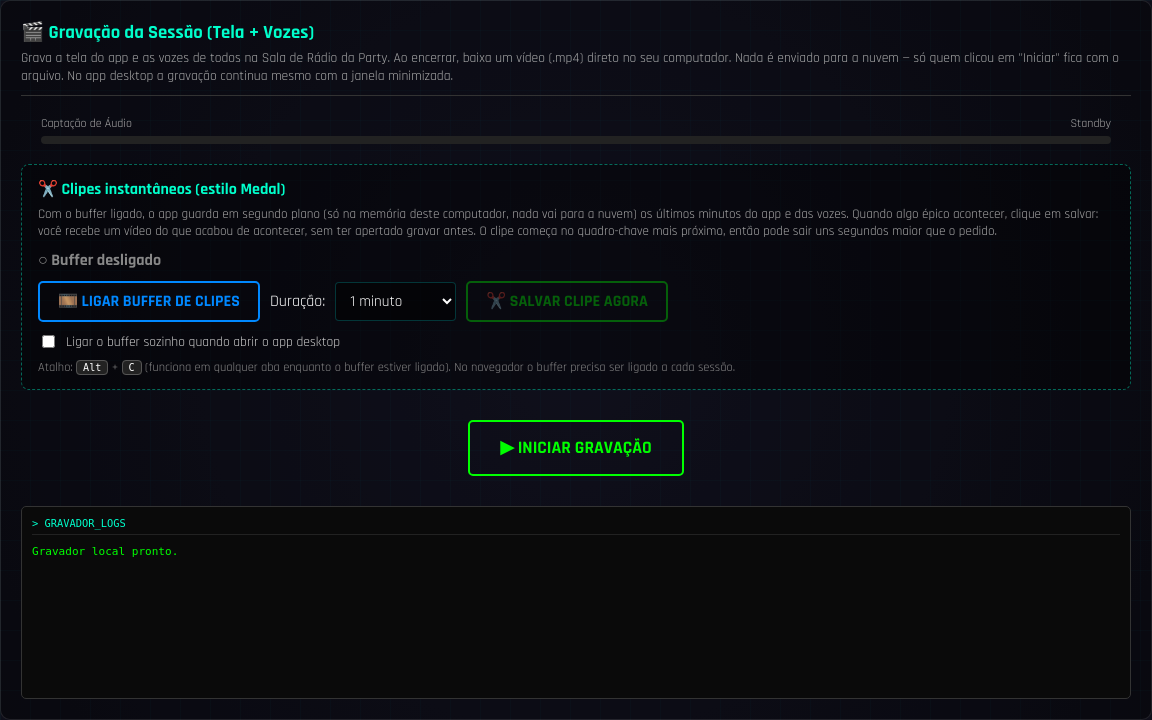
Test: GravadorPanel: modo clipe › SALVAR CLIPE AGORA fica desabilitado ate ligar
Expected: the button "✂️ SALVAR CLIPE AGORA" is disabled, x1=466 y1=281 x2=668 y2=322
Click the button "🎞️ LIGAR BUFFER DE CLIPES". click: (149, 302)
box: x1=38 y1=281 x2=260 y2=322
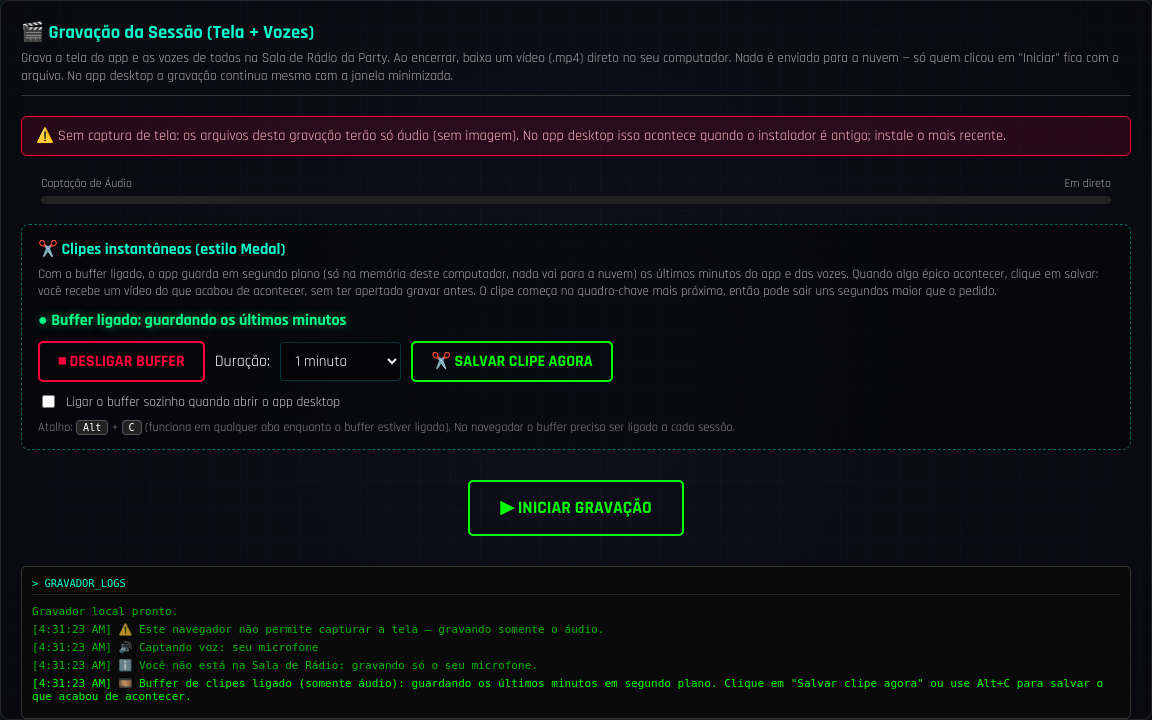
Expected: the button "✂️ SALVAR CLIPE AGORA" is enabled, x1=411 y1=341 x2=613 y2=382
